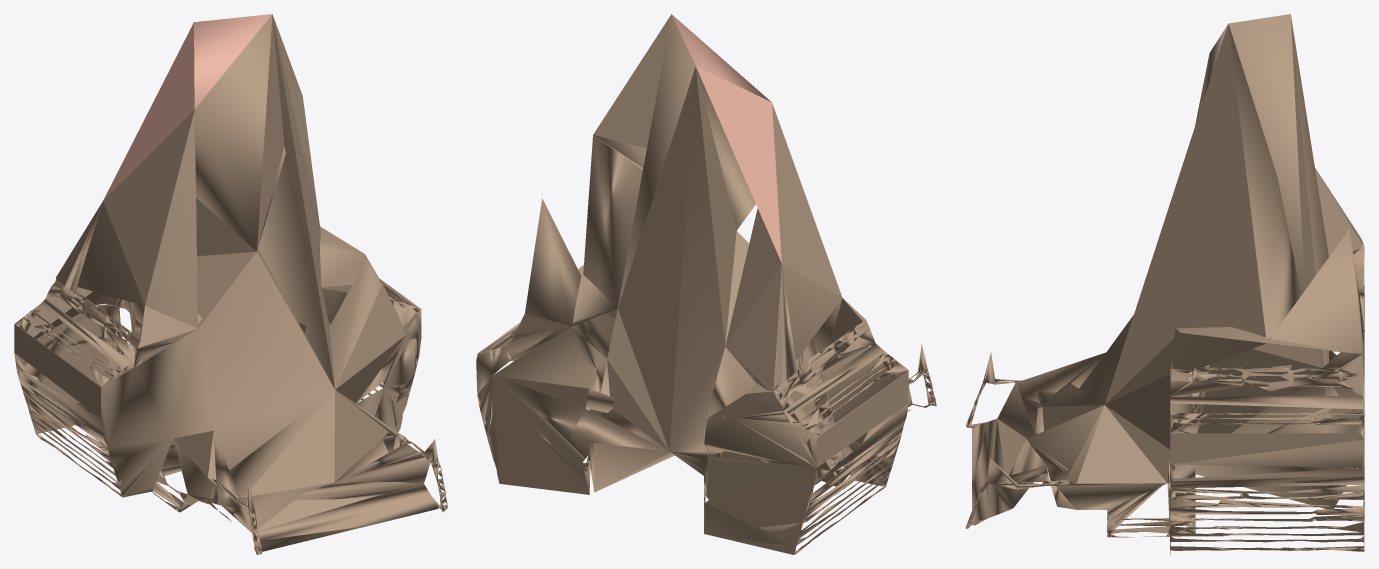
Rendered from templo_grande_f.glb.
3 views of the same model, side by side, from view 1: azimuth 30°, elevation 25°; view 2: azimuth 150°, elevation 25°; view 3: azimuth 270°, elevation 25° (orthographic). The views are drawn at different scales.
Parts seen in each view (by area): view 1: templo_grande_f; view 2: templo_grande_f; view 3: templo_grande_f.
Part boxes in pixels (x1,y1,x2,y2): templo_grande_f: [14, 14, 447, 554]; templo_grande_f: [476, 14, 936, 554]; templo_grande_f: [965, 14, 1364, 554].
Bounding box in the file's own units: 18.66 × 23.92 × 17.99.
